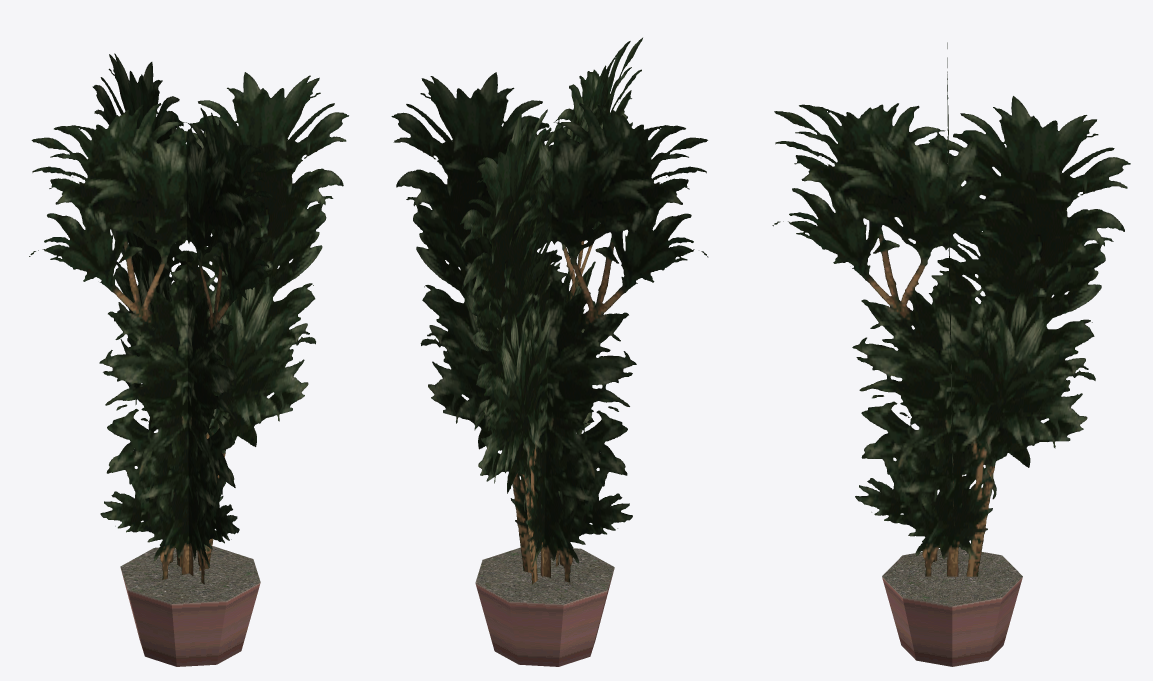
File: veg_palmkb3.obj
The picture shows the model from 3 angles, left to right: view 1: azimuth 30°, elevation 25°; view 2: azimuth 150°, elevation 25°; view 3: azimuth 270°, elevation 25°; orthographic projection. The views are drawn at different scales.
Visible parts, largest first — view 1: veg_palmkb3; view 2: veg_palmkb3; view 3: veg_palmkb3.
Boxes of the visible parts, x1=… form: veg_palmkb3: x1=29, y1=53, x2=348, y2=666; veg_palmkb3: x1=391, y1=37, x2=708, y2=666; veg_palmkb3: x1=772, y1=42, x2=1130, y2=666.
Bounding box in the file's own units: 2.3 × 3.61 × 2.3.
